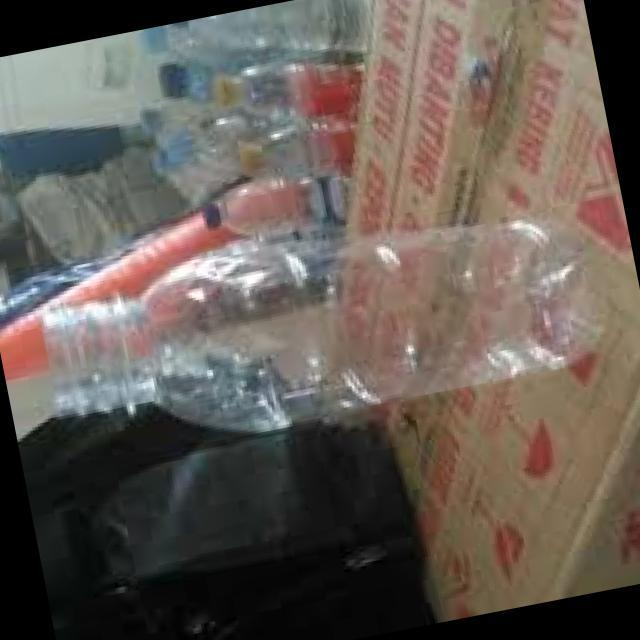good: (20, 158, 596, 466)
